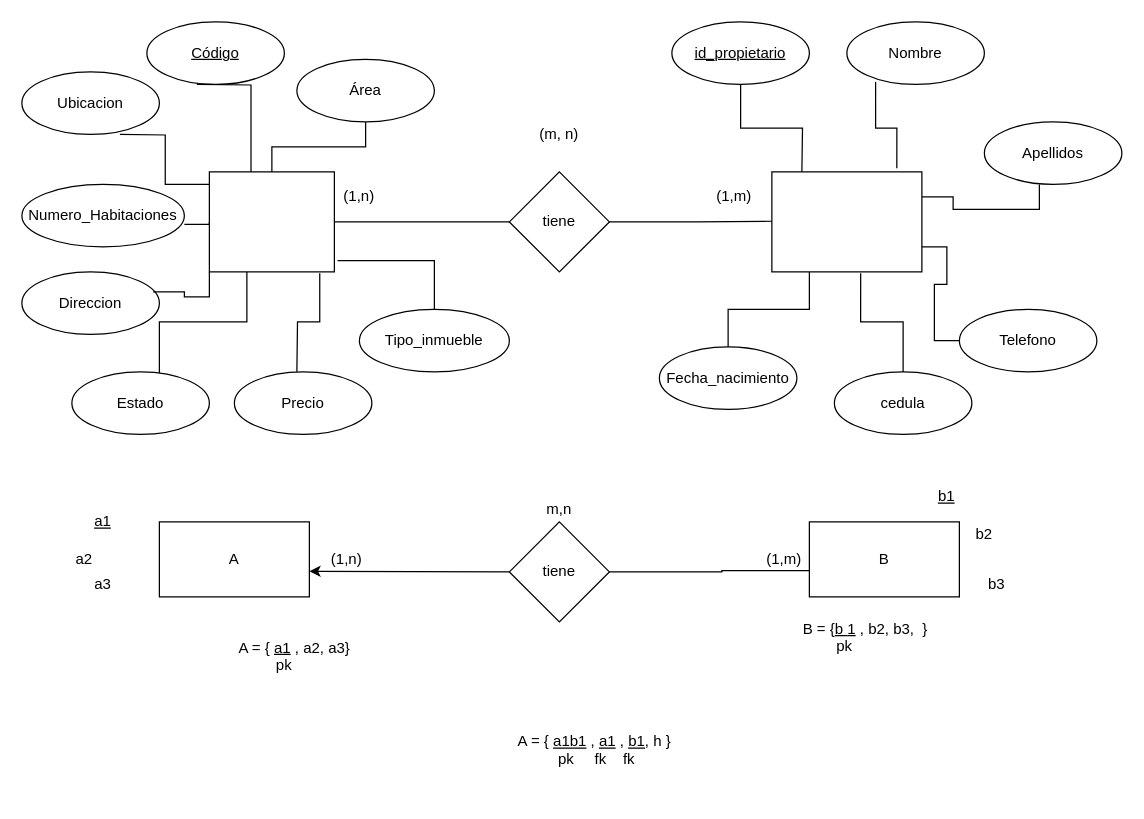
This 1144x819 diagram has some shape labels left out. Each missing label, with the centre of its shape:
Inmueble: (x=271, y=221)
propietario: (x=846, y=221)
